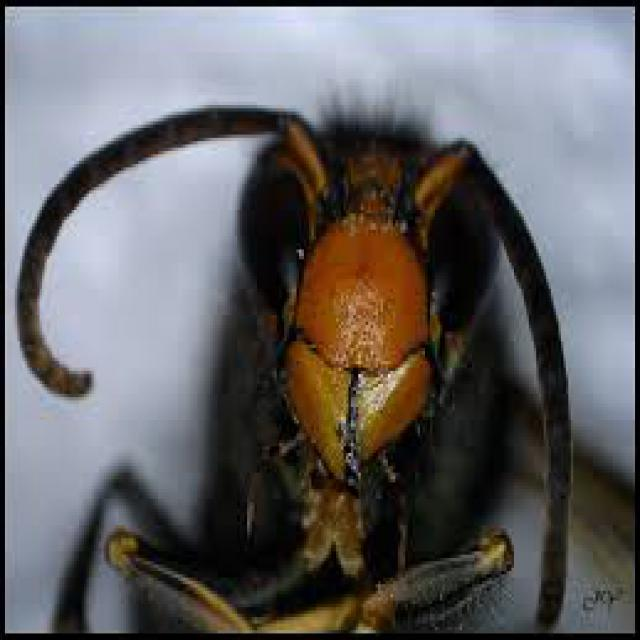Vespa Velutina: (4, 73, 636, 631)
